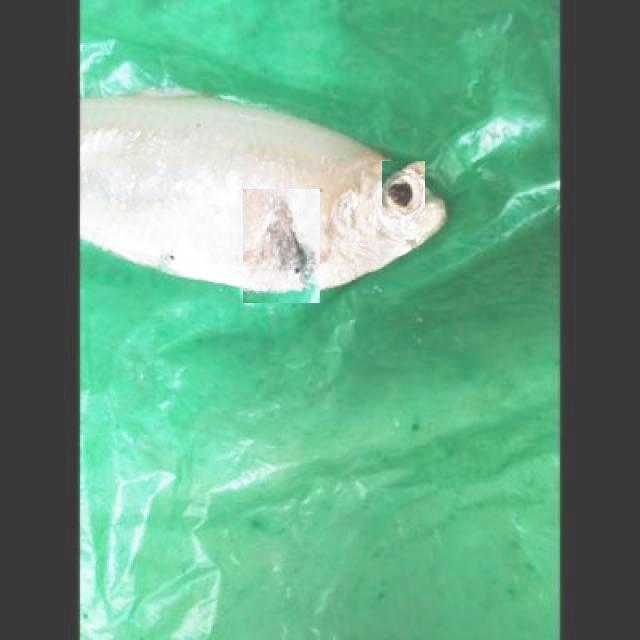Aeromonas Septicemia: (80, 92, 448, 300)
